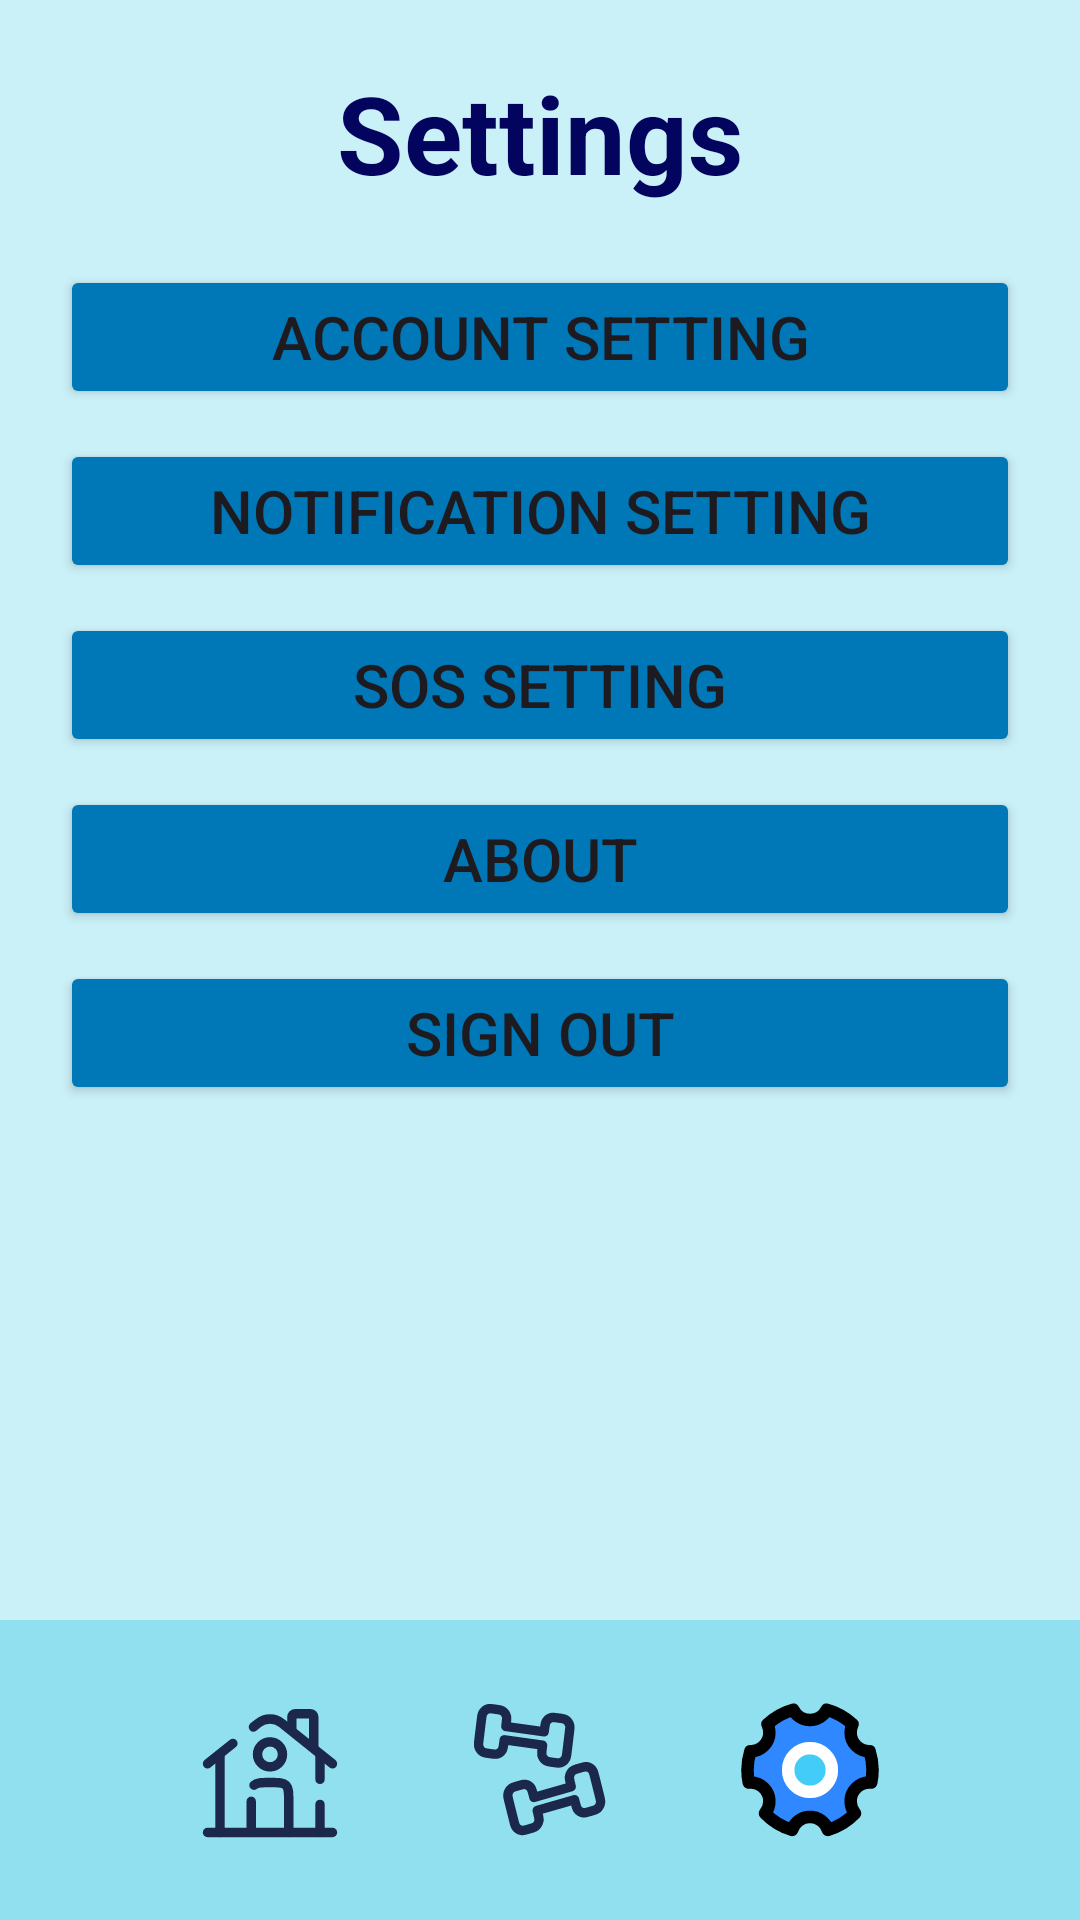

Icons on this 1080*1920 Android screen, each with the point to tap as [x,y]:
dumbbells: [540,1770]
home: [270,1773]
setting: [810,1770]
